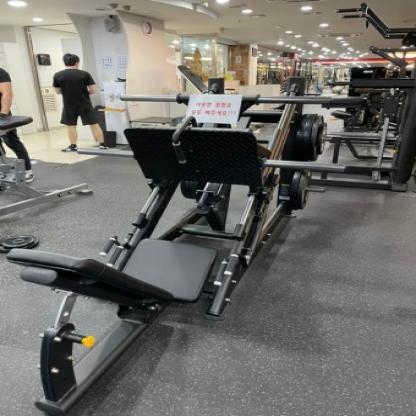leg press: (2, 61, 393, 416)
